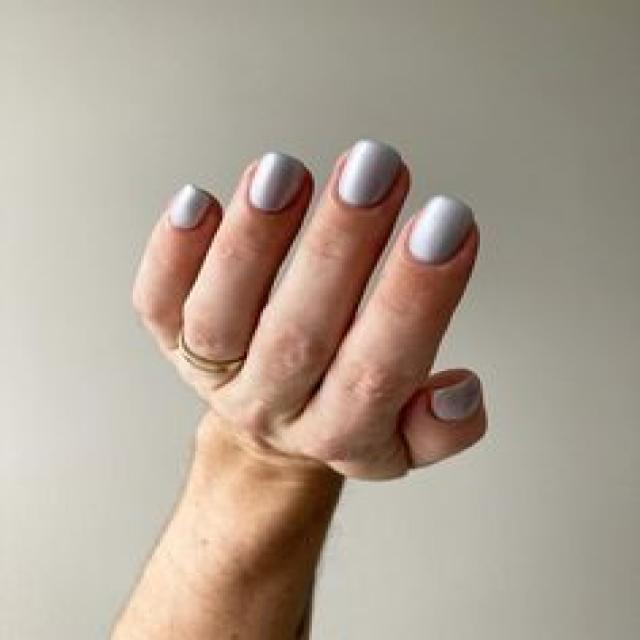Fingernail: (408, 196, 473, 264), (338, 141, 400, 207), (250, 153, 304, 211), (432, 376, 480, 420), (170, 185, 211, 228)
